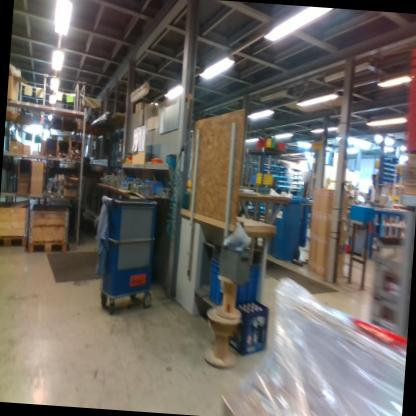pallet: (28, 236, 68, 257), (0, 231, 27, 251)
